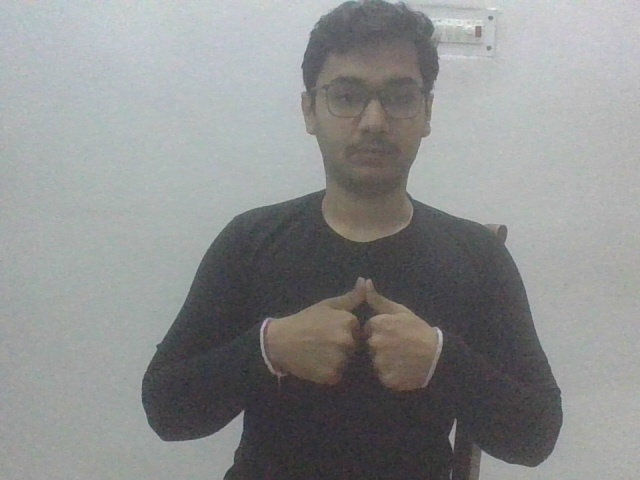A: (268, 273, 447, 403)
